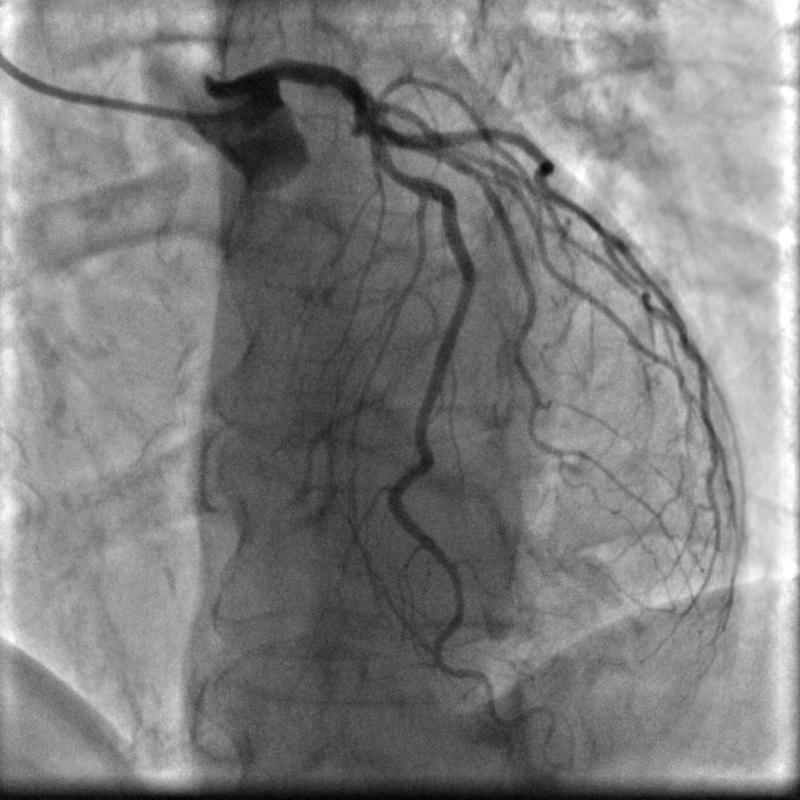Stenosis: (379, 156, 415, 182)
